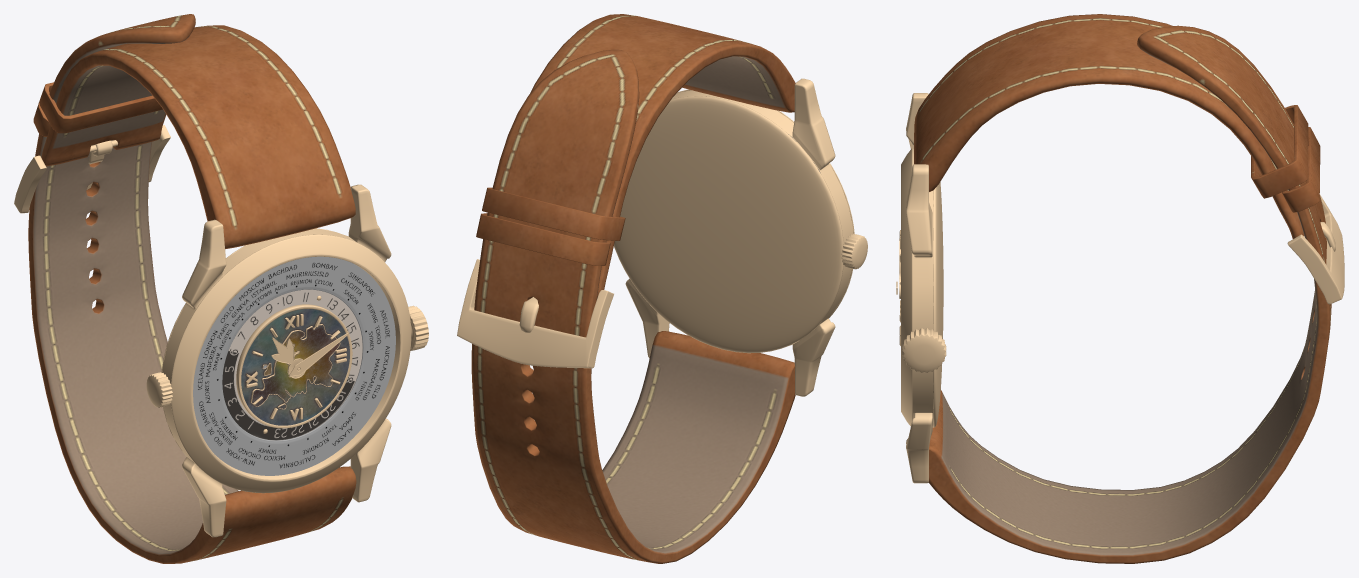
The model's file is patek.glb.
3 views of the same model, side by side, from view 1: azimuth 30°, elevation 25°; view 2: azimuth 150°, elevation 25°; view 3: azimuth 270°, elevation 25° (orthographic).
Visible parts, largest first — view 1: with_uv_Object003, Object002_watch_0, Object001_watch_0, Hand 1; view 2: with_uv_Object003, Object003_watch_0, Object002_watch_0; view 3: with_uv_Object003, Object002_watch_0, Object003_watch_0.
Part boxes in pixels (left/top/right/bottom): with_uv_Object003: left=14, top=14, right=428, bottom=563; Object002_watch_0: left=162, top=184, right=391, bottom=537; Object001_watch_0: left=271, top=337, right=305, bottom=378; Hand 1: left=288, top=332, right=349, bottom=377; with_uv_Object003: left=457, top=14, right=867, bottom=563; Object003_watch_0: left=614, top=96, right=843, bottom=353; Object002_watch_0: left=625, top=78, right=853, bottom=396; with_uv_Object003: left=899, top=14, right=1344, bottom=563; Object002_watch_0: left=906, top=93, right=933, bottom=483; Object003_watch_0: left=933, top=182, right=943, bottom=427.
Size of what is drawn, in the model's own units: 2.24 by 3.93 by 3.21.
1 material, 1 textured.
